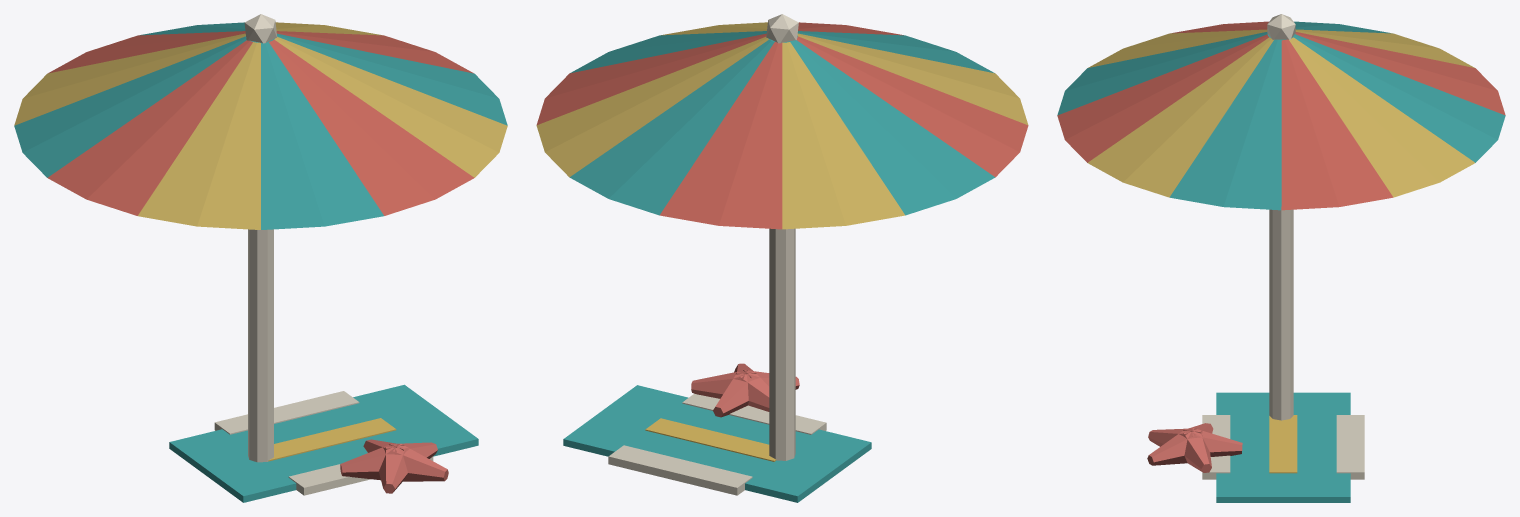
The model's file is plot_skin_beach.fbx.
3 views of the same model, side by side, from view 1: azimuth 30°, elevation 25°; view 2: azimuth 150°, elevation 25°; view 3: azimuth 270°, elevation 25° (orthographic). The views are drawn at different scales.
Visible parts, largest first — view 1: plot_skin_beach; view 2: plot_skin_beach; view 3: plot_skin_beach.
Boxes of the visible parts, x1,y1,x2,y2 form: plot_skin_beach: [14, 14, 507, 502]; plot_skin_beach: [536, 14, 1028, 502]; plot_skin_beach: [1057, 14, 1505, 502].
Bounding box in the file's own units: 5.2 × 5.23 × 5.2.
